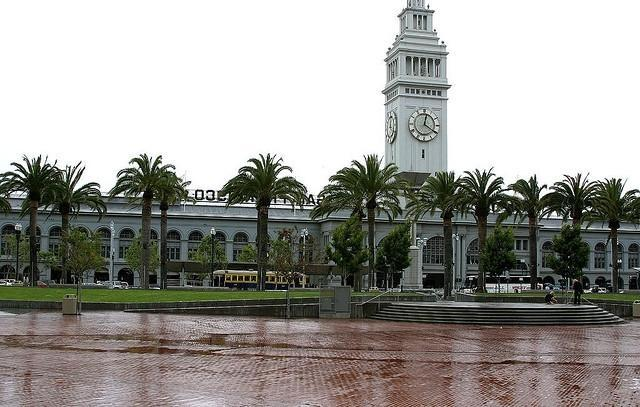bus: (212, 268, 306, 290), (464, 276, 544, 294)
car: (27, 280, 46, 286), (112, 281, 124, 290), (124, 282, 130, 288)
